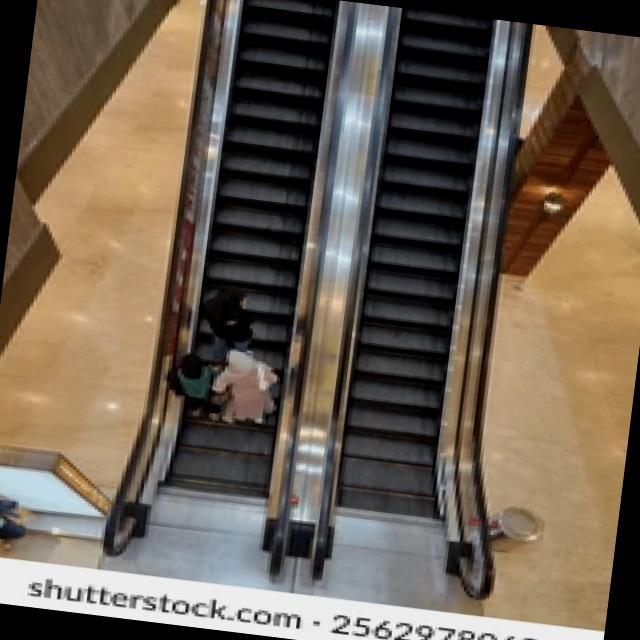escalator: (81, 0, 370, 589), (295, 4, 549, 623)
